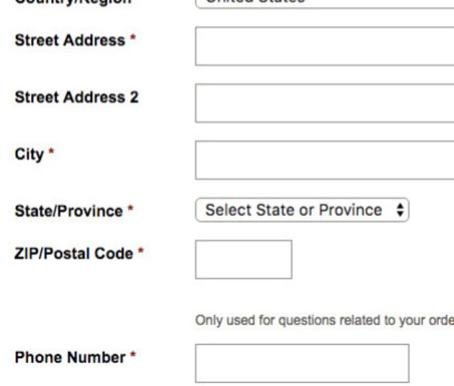field: (192, 342, 411, 384), (195, 196, 409, 223), (191, 237, 294, 280)
field_with_label: (14, 339, 412, 383), (16, 236, 298, 281), (11, 194, 411, 225)
